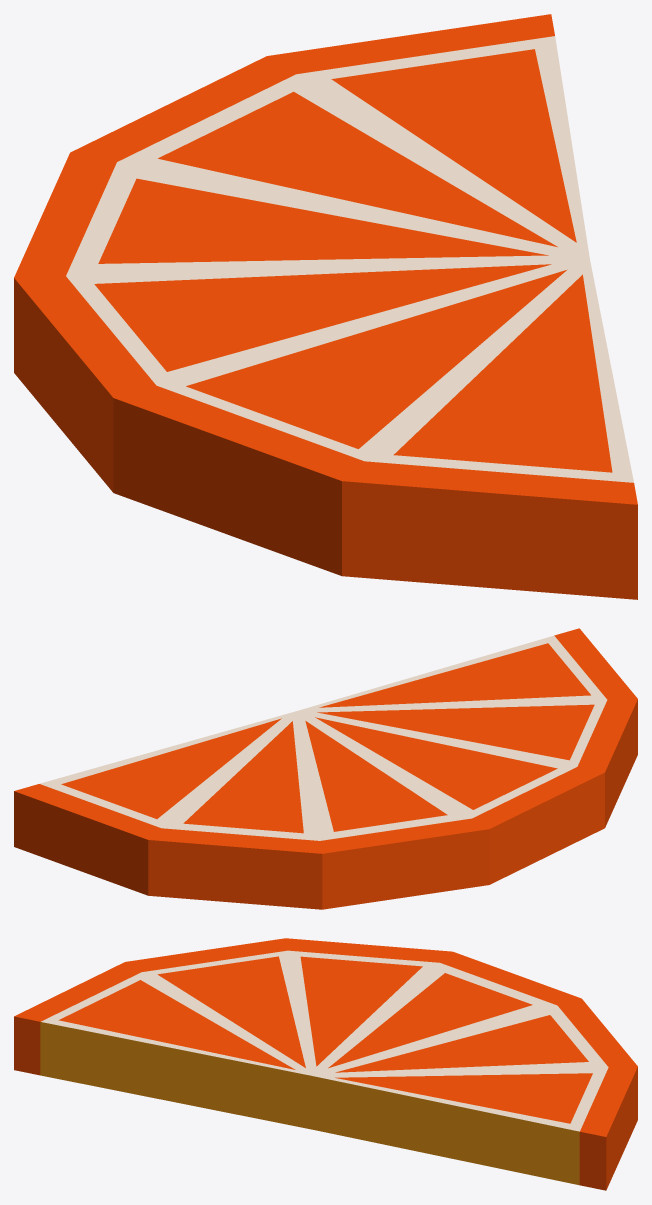
The model's file is orange-slice2.fbx.
The picture shows the model from 3 angles, top to bottom: view 1: azimuth 30°, elevation 25°; view 2: azimuth 150°, elevation 25°; view 3: azimuth 270°, elevation 25°; orthographic projection. The views are drawn at different scales.
Visible parts, largest first — view 1: Sphere.003; view 2: Sphere.003; view 3: Sphere.003.
Boxes of the visible parts, x1,y1,x2,y2 form: Sphere.003: (14, 14, 637, 599); Sphere.003: (14, 628, 637, 909); Sphere.003: (14, 938, 637, 1190).
Size of the model in its own units: 83.09 by 10.46 by 110.
